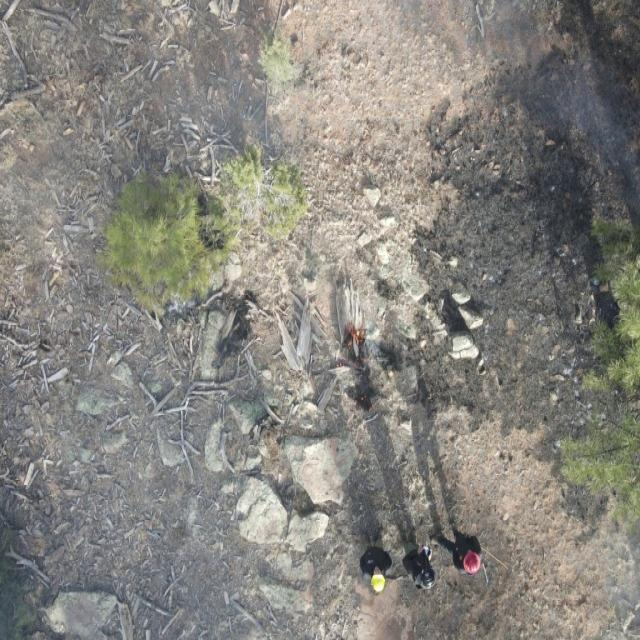fire: (342, 322, 367, 352), (358, 392, 376, 416), (334, 358, 348, 373)
smoke: (0, 0, 318, 640), (317, 1, 640, 238)
